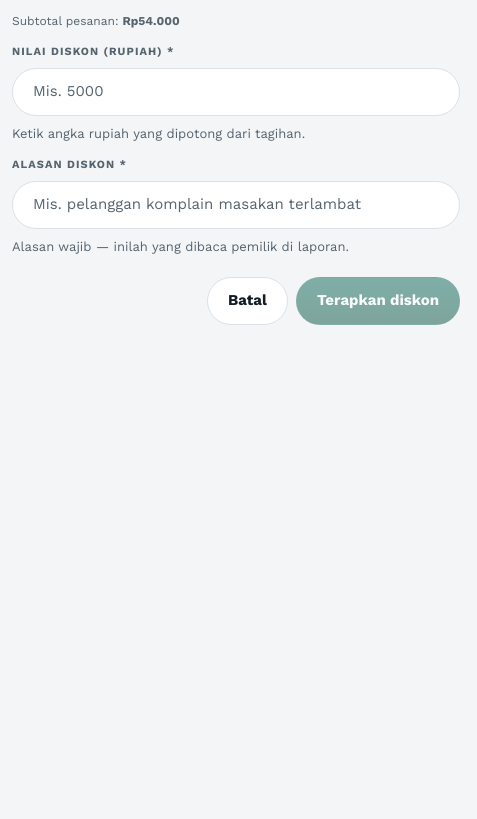
Test: DiskonManual › PIN atasan SALAH tidak membuka tombol terapkan dan pesannya jujur
The width and height of the screenshot is (477, 819).
Type "9000" into the field labelled "Nilai diskon (rupiah) *" at (236, 92), box [12, 68, 460, 116]
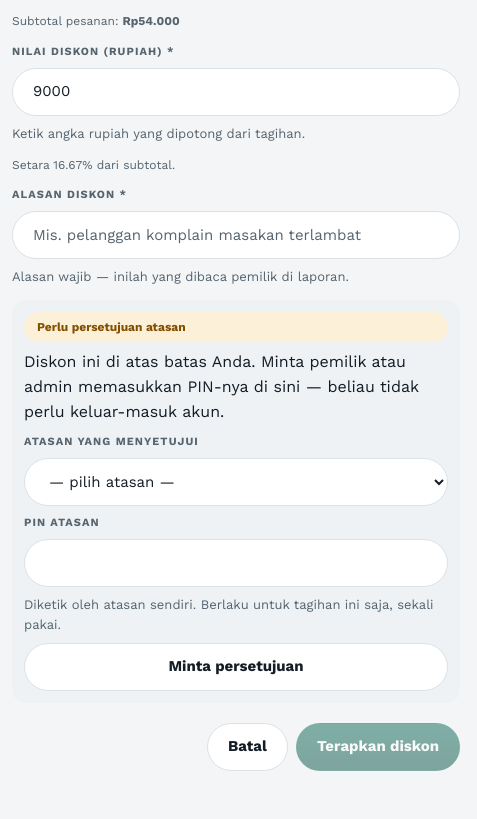
Type "komplain" into the field labelled "Alasan diskon *" at (236, 235), box [12, 211, 460, 259]
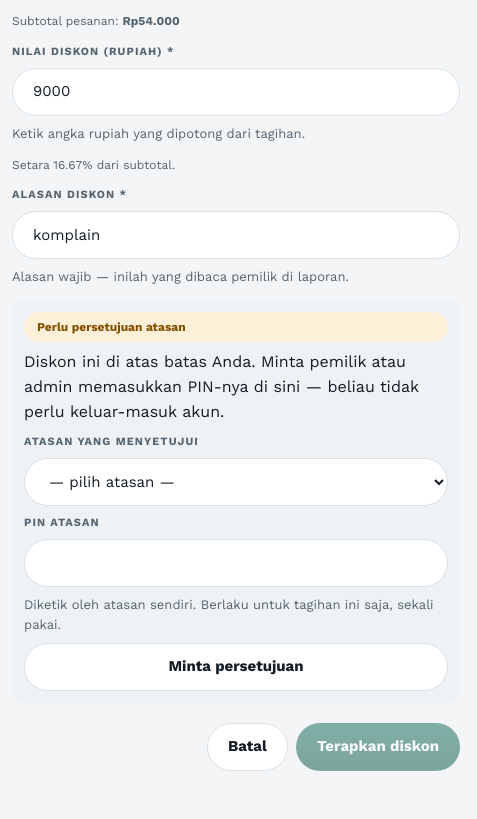
Select "Bu Sri (Pemilik)" in the dropdown with test id "diskon-atasan" at (236, 482), box [24, 458, 448, 506]
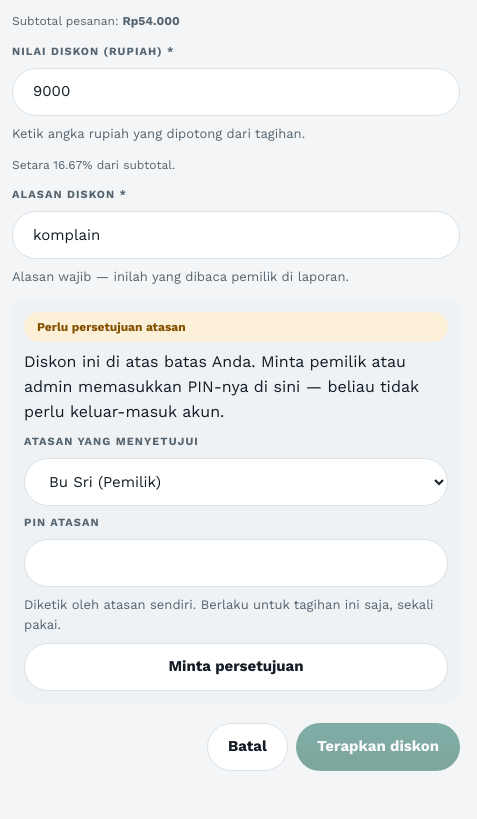
Type "000000" into the password field labelled "PIN atasan" at (236, 563), box [24, 539, 448, 587]
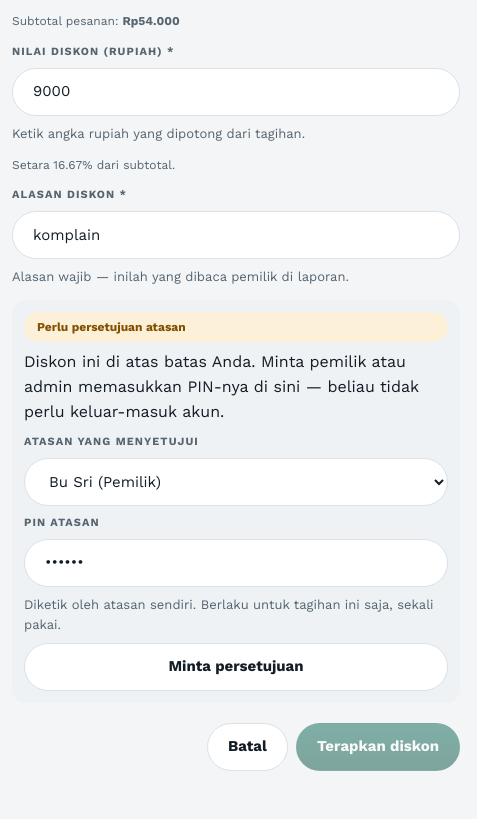
Click the button "Minta persetujuan" at (236, 667), box [24, 643, 448, 691]
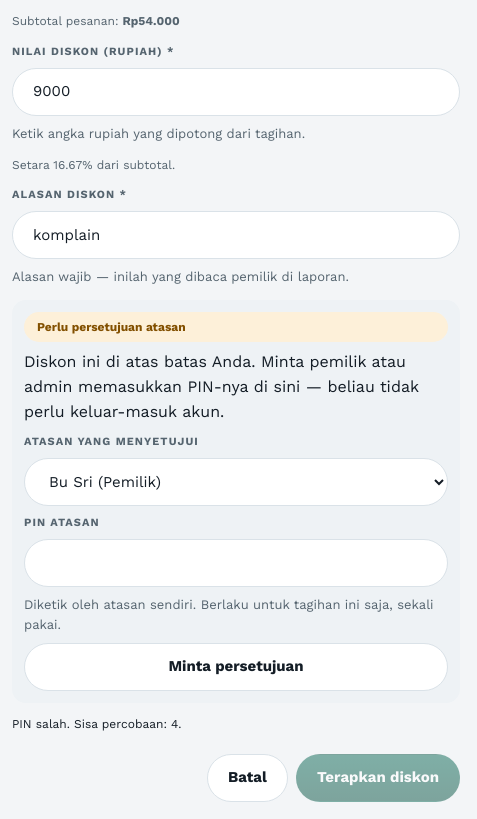
Check: the button "Terapkan diskon" is disabled, box [296, 754, 460, 802]
Check: the message with test id "diskon-pesan" shows "PIN salah", box [12, 717, 182, 731]
